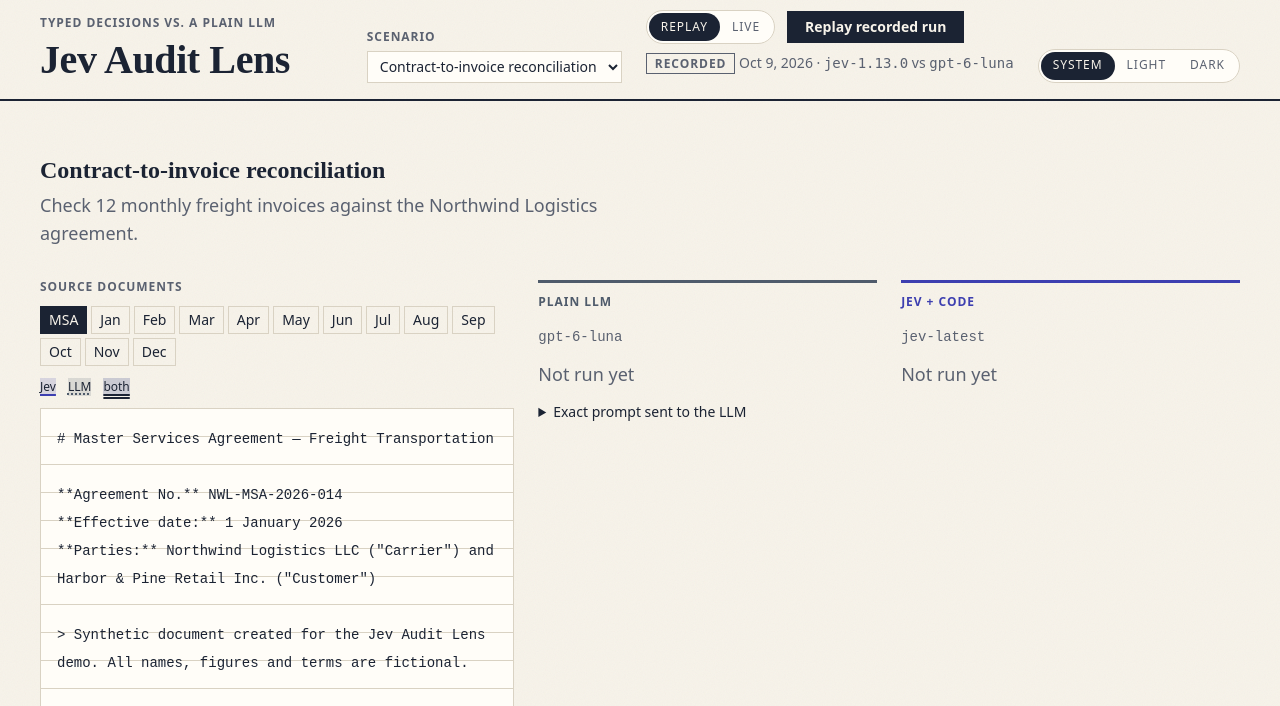
App › ends a replay with both ledgers, the review lane and the results
This screenshot has width=1280, height=706.
Expected: the heading "Contract-to-invoice reconciliation" is shown, 40,157 -> 386,183
Expected: the text "Recorded" is shown, 646,53 -> 736,74
Click the button "Replay recorded run". click: click(876, 27)
box: 787,11 -> 964,43
(page scrolled)
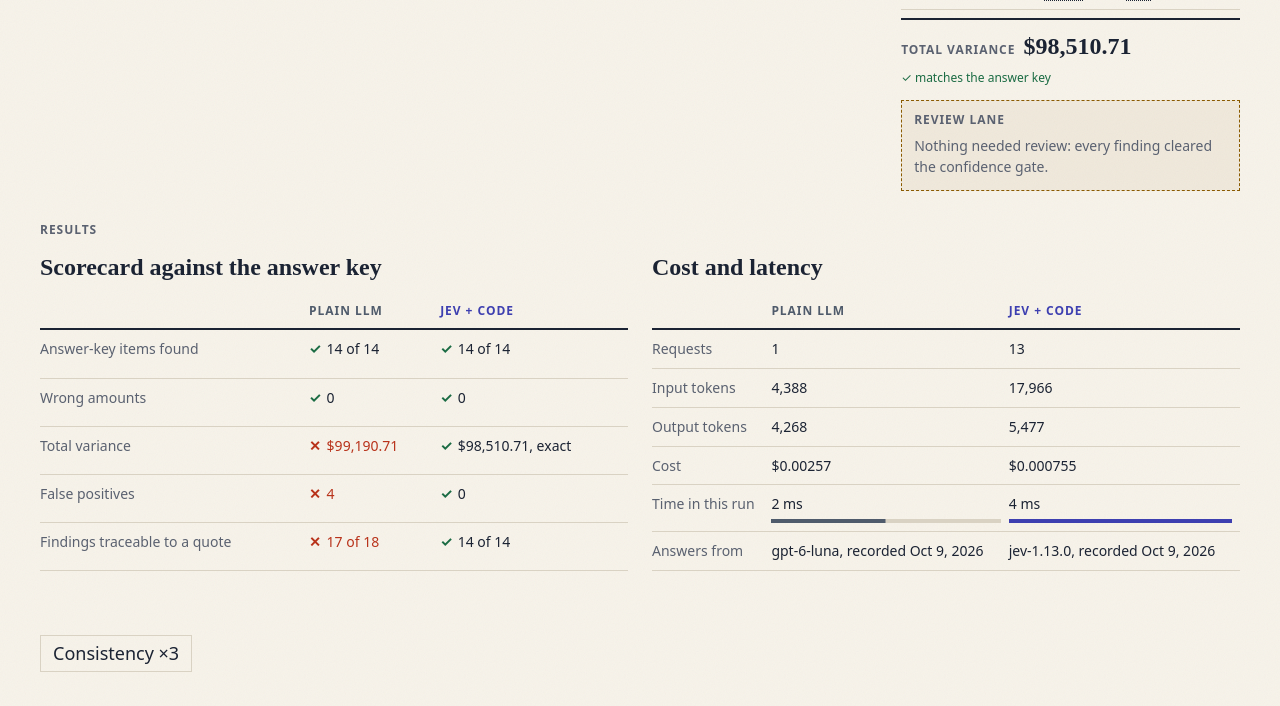
Now the element "Review lane" shows "Nothing needed review", box 914,136 -> 1212,176
Now the cells read "✕4", "✓0", in this order, box 309,474 -> 440,522; 440,474 -> 628,522
Now the table "Cost and latency" shows "jev-1.13.0, recorded Oct 9, 2026", box 1009,541 -> 1215,560
